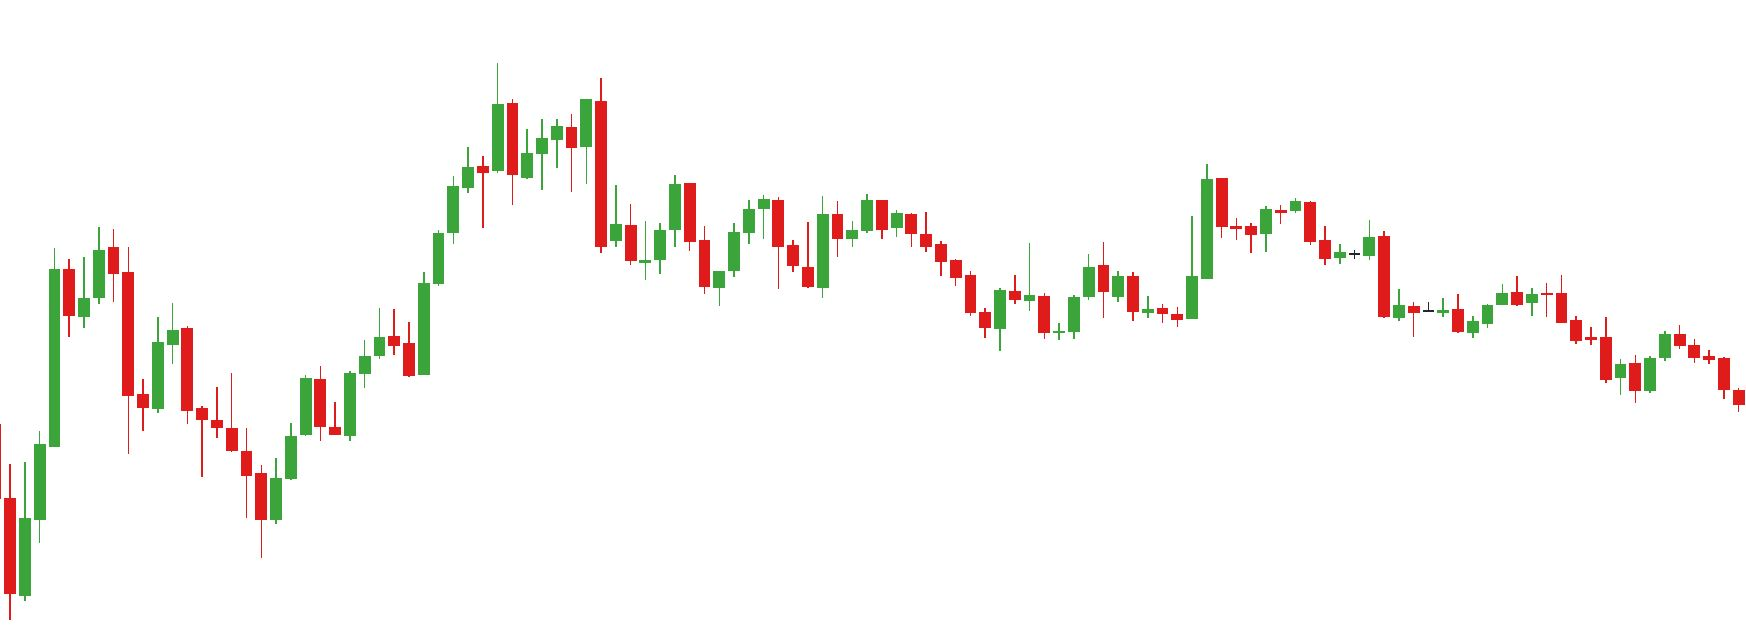sell: (859, 165, 1230, 280)
